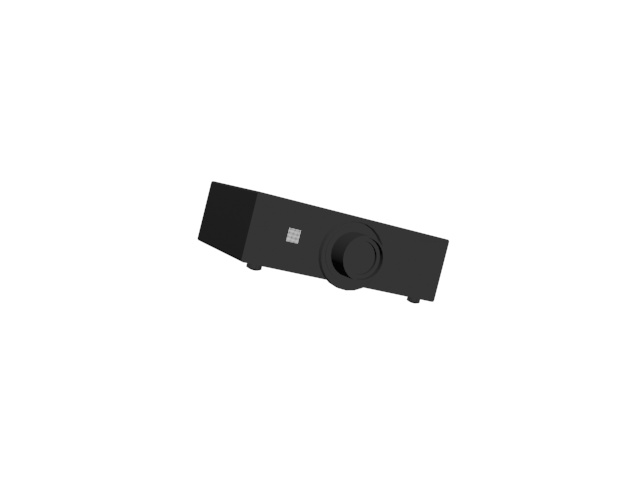projector: (193, 177, 456, 304)
